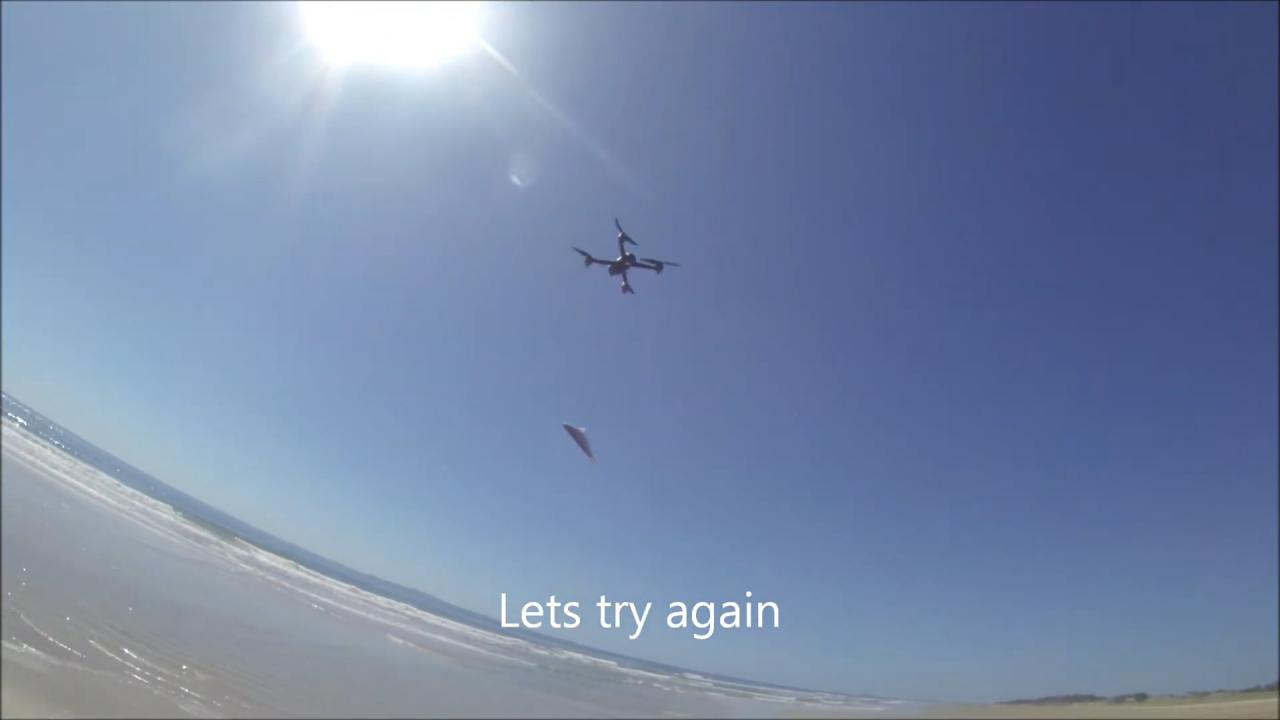Drone: (566, 210, 688, 304)
